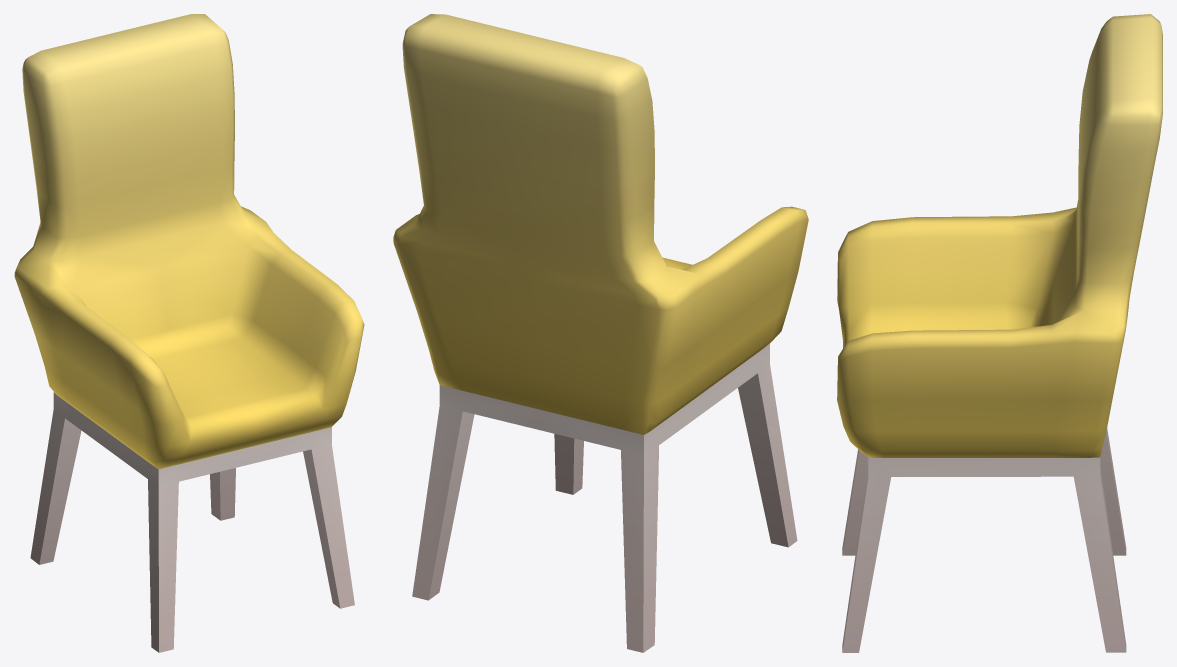
Rendered from Doll_OB_Chair_003.fbx.
The picture shows the model from 3 angles, left to right: view 1: azimuth 30°, elevation 25°; view 2: azimuth 150°, elevation 25°; view 3: azimuth 270°, elevation 25°; orthographic projection. The views are drawn at different scales.
Visible parts, largest first — view 1: Doll_OB_Chair_003; view 2: Doll_OB_Chair_003; view 3: Doll_OB_Chair_003.
Part boxes in pixels (x1,y1,x2,y2): Doll_OB_Chair_003: (14,14,364,652); Doll_OB_Chair_003: (393,14,808,652); Doll_OB_Chair_003: (837,14,1162,652).
Bounding box in the file's own units: 44.77 × 88.16 × 48.01.
1 material, 1 textured.
